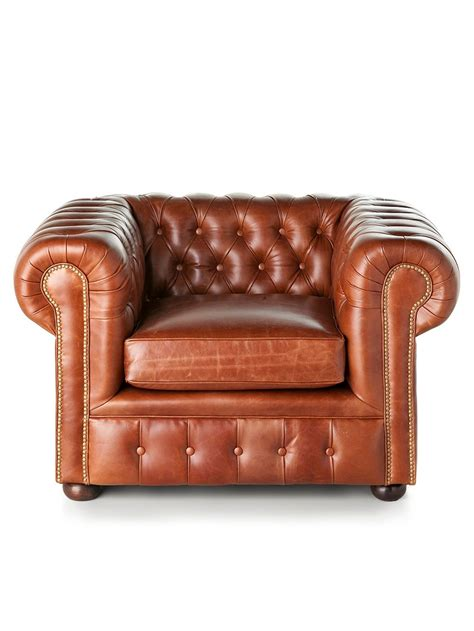cuero: (14, 194, 459, 490)
